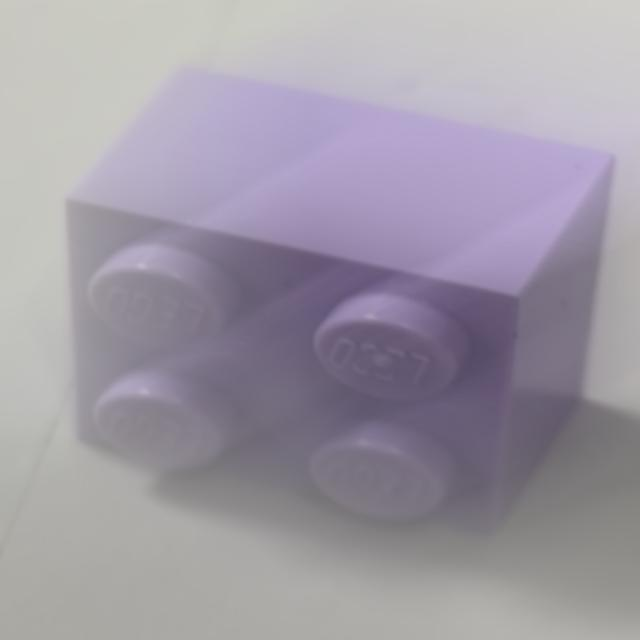C2x2x1: (63, 67, 628, 540)
